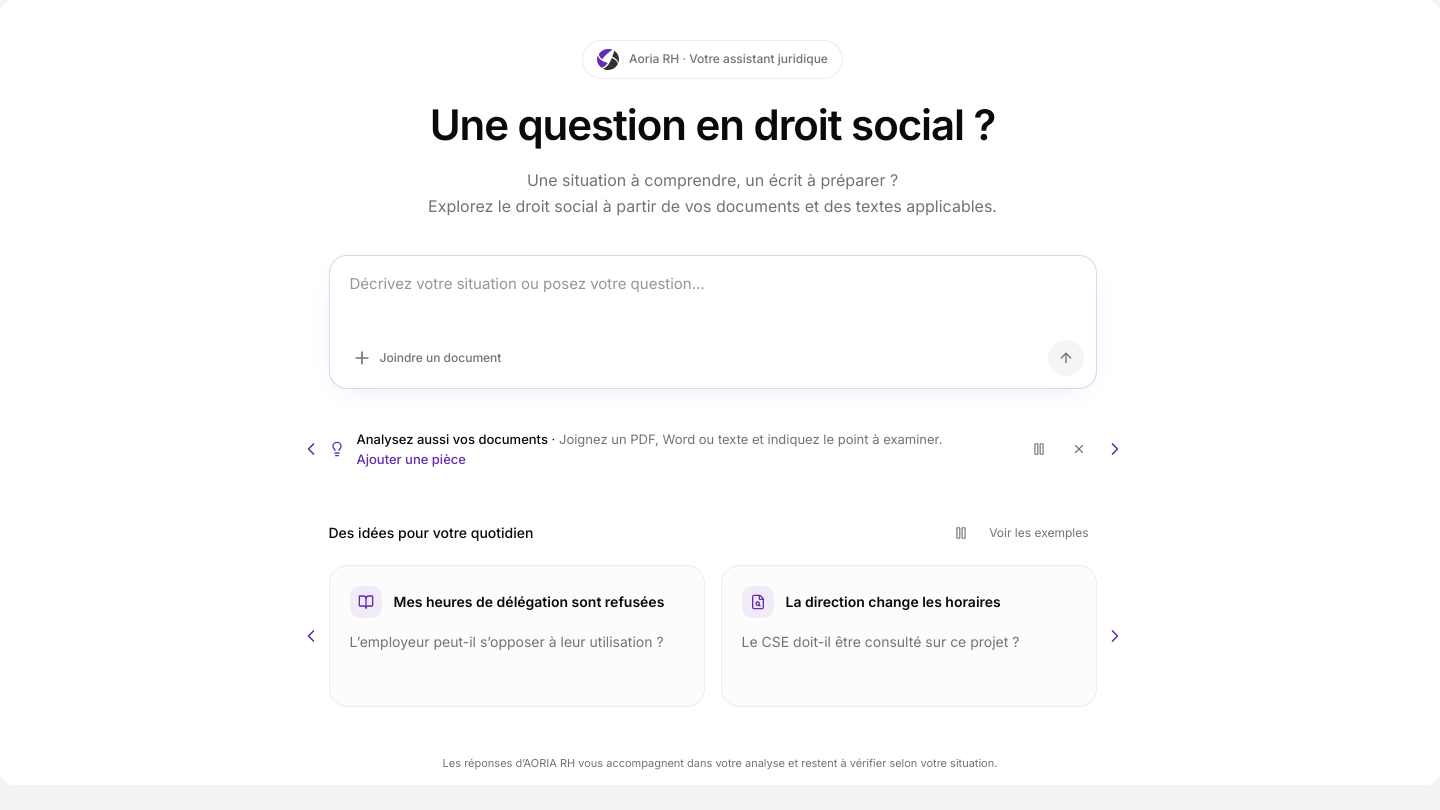
Scenario: shows the input, rotating ideas, then two carousel cards for elu_cse
Click the button "Mes heures de délégation sont refusées" at (516, 636), box [328,565,704,707]
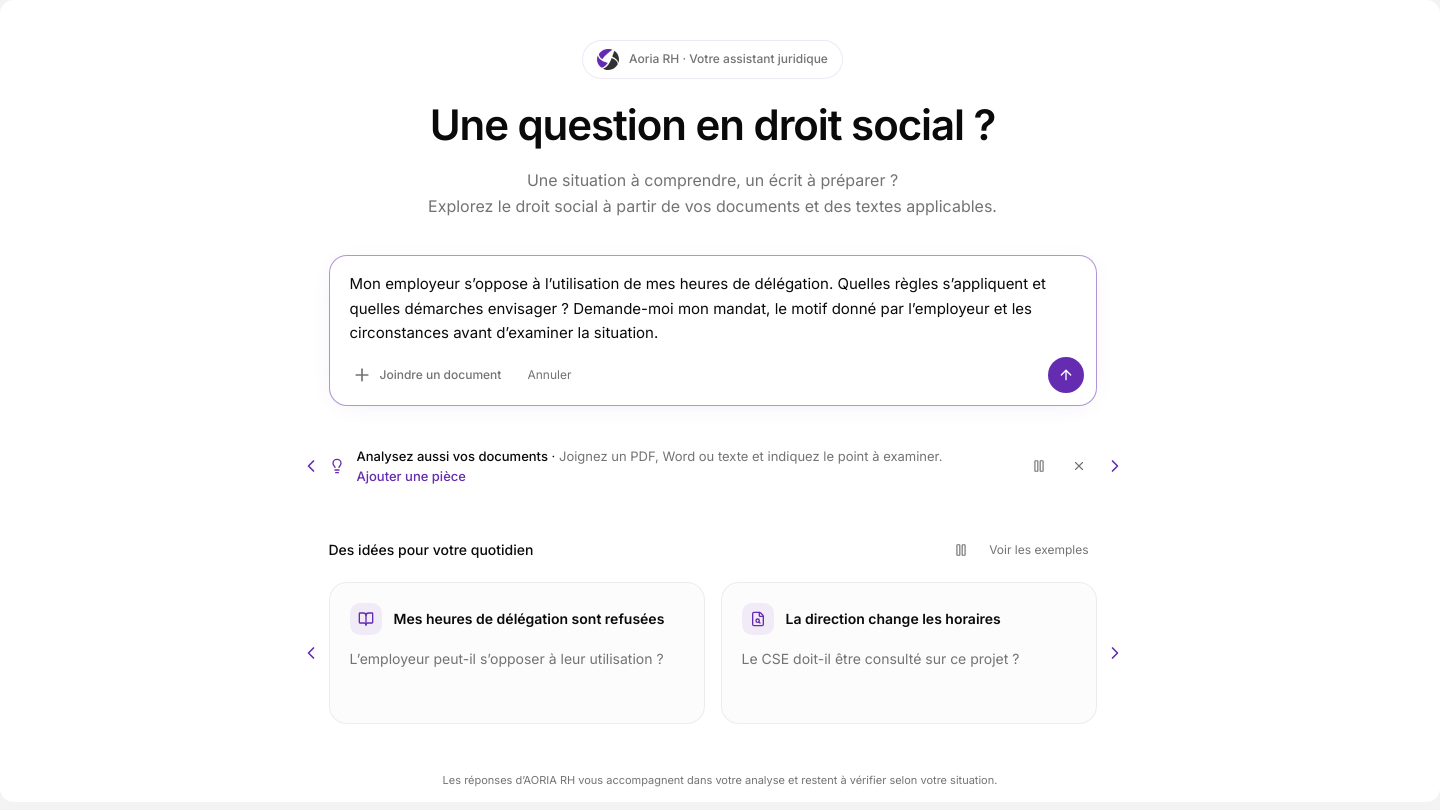
Expected: the text box is not empty, [330,256,1096,353]
